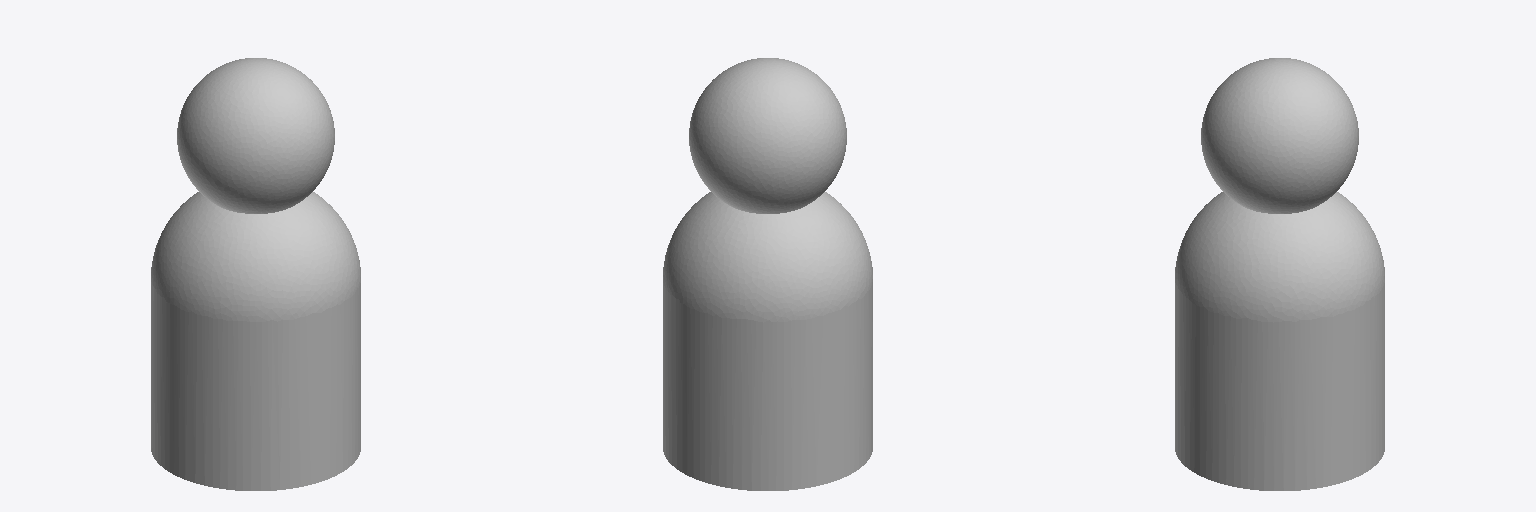
Rendered from Player.obj.
The picture shows the model from 3 angles: view 1: azimuth 30°, elevation 25°; view 2: azimuth 150°, elevation 25°; view 3: azimuth 270°, elevation 25°; orthographic projection.
Visible parts, largest first — view 1: Player; view 2: Player; view 3: Player.
Part boxes in pixels (x1,y1,x2,y2): Player: (151, 58, 360, 490); Player: (663, 58, 872, 490); Player: (1175, 58, 1384, 490).
Bounding box in the file's own units: 1.27 × 2.54 × 1.27.